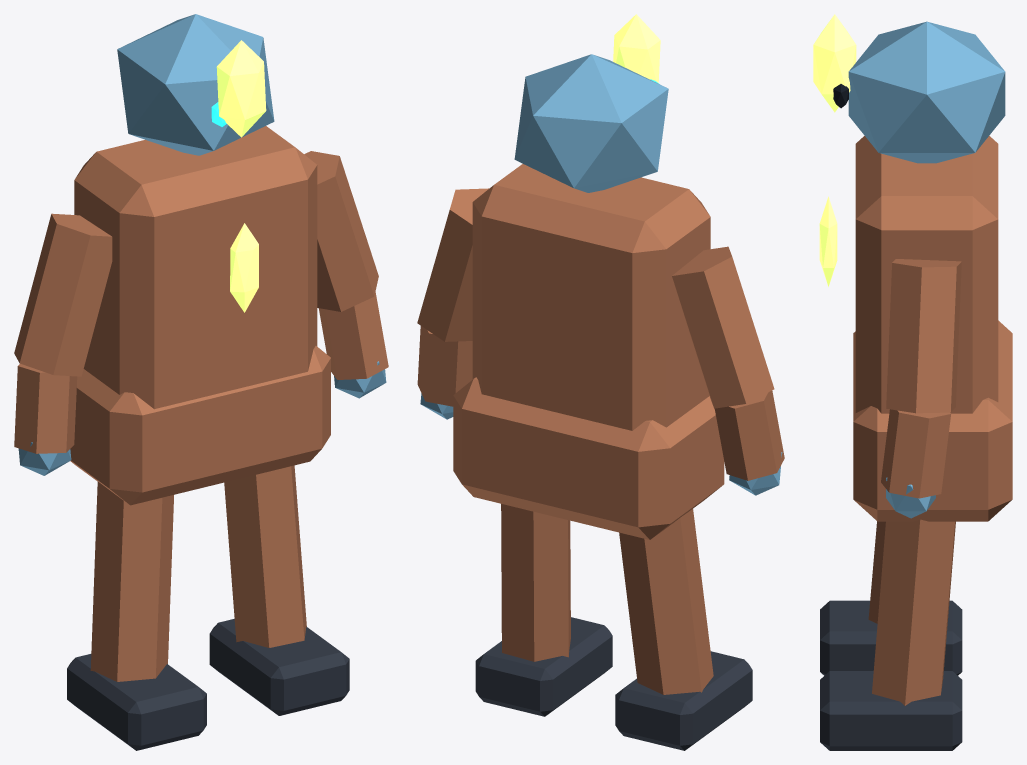
Rendered from npcs_014_seed11.glb.
3 renders of one model, left to right at view 1: azimuth 30°, elevation 25°; view 2: azimuth 150°, elevation 25°; view 3: azimuth 270°, elevation 25°, orthographic. The views are drawn at different scales.
Visible parts, largest first — view 1: npcs_014_seed11; view 2: npcs_014_seed11; view 3: npcs_014_seed11.
Boxes of the visible parts, left/top/right/bottom form: npcs_014_seed11: left=14, top=14, right=388, bottom=750; npcs_014_seed11: left=417, top=14, right=784, bottom=750; npcs_014_seed11: left=813, top=14, right=1012, bottom=750.
Size of the model in its own units: 1.07 by 1.91 by 0.4999.
